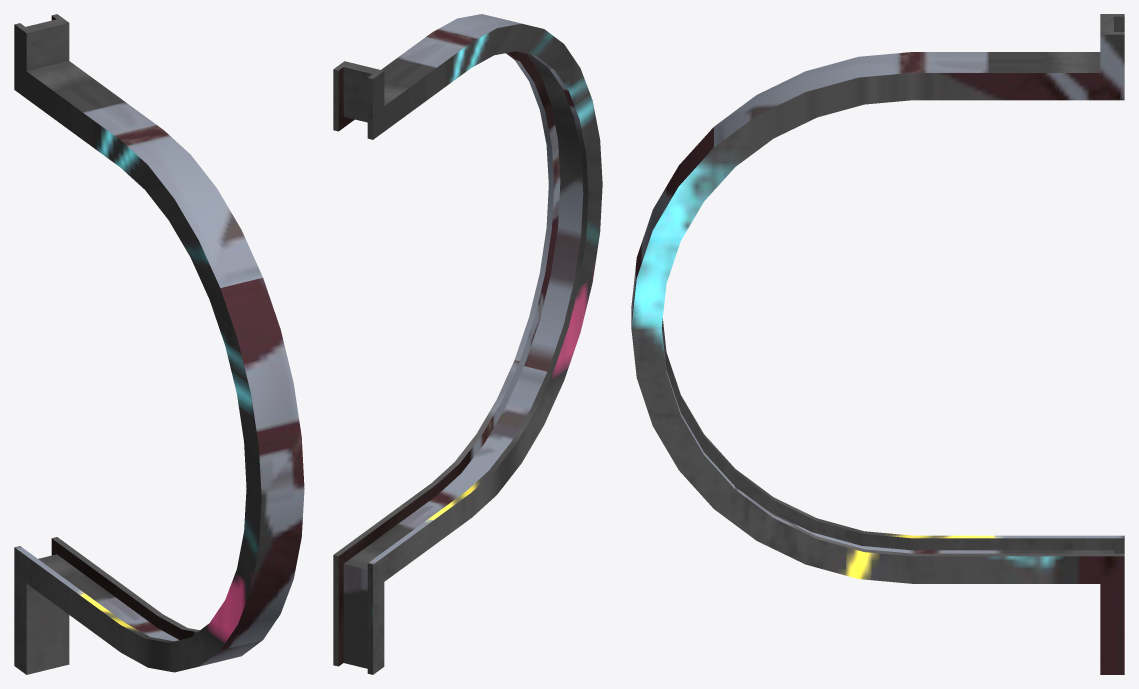
Rendered from beam_hor_floor.fbx.
3 renders of one model, left to right at view 1: azimuth 30°, elevation 25°; view 2: azimuth 150°, elevation 25°; view 3: azimuth 270°, elevation 25°, orthographic. The views are drawn at different scales.
Visible parts, largest first — view 1: beam_vert_01.002; view 2: beam_vert_01.002; view 3: beam_vert_01.002.
Boxes of the visible parts, box(x1,y1,x2,y2) form: beam_vert_01.002: box(14, 14, 304, 674); beam_vert_01.002: box(333, 14, 602, 674); beam_vert_01.002: box(631, 14, 1124, 674).
Size of the model in its own units: 209 by 2989 by 2088.
